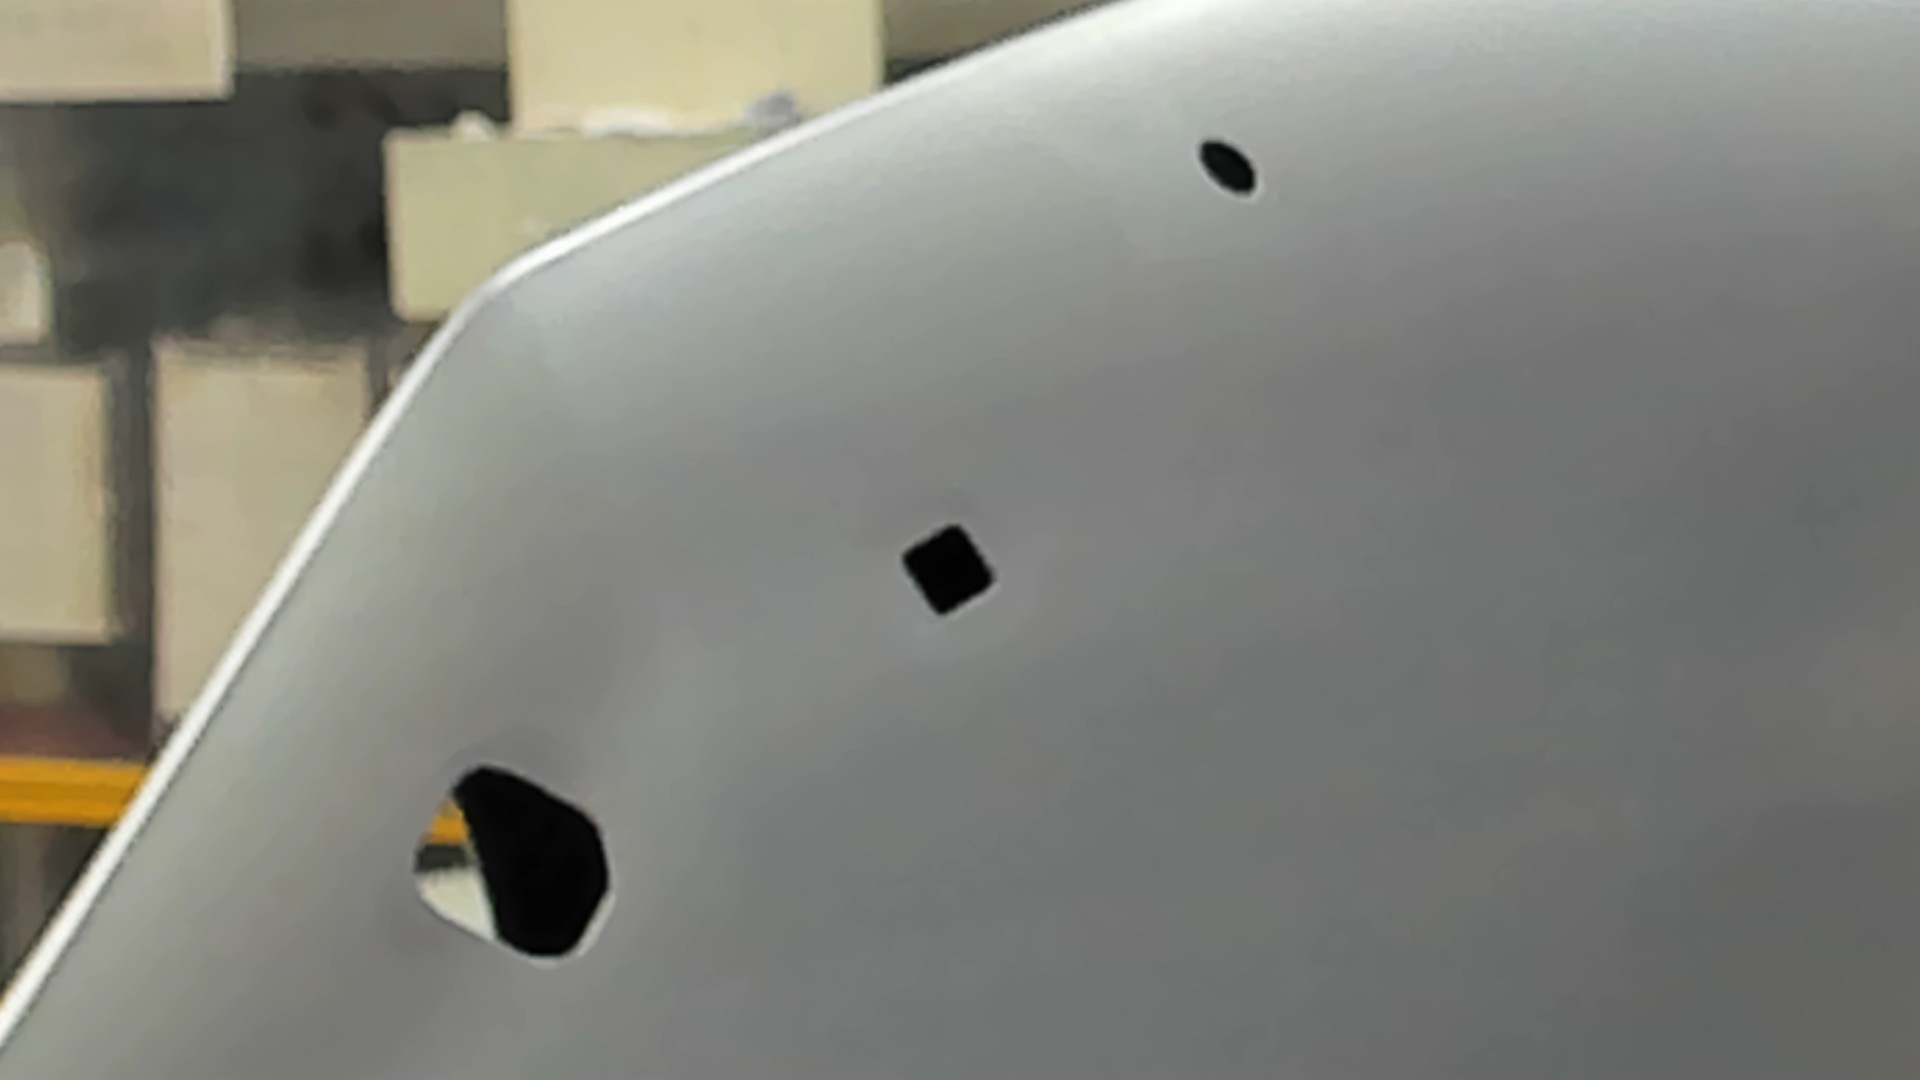chico: (1195, 136, 1261, 200)
grande: (409, 761, 618, 968)
mediano: (901, 521, 998, 617)
